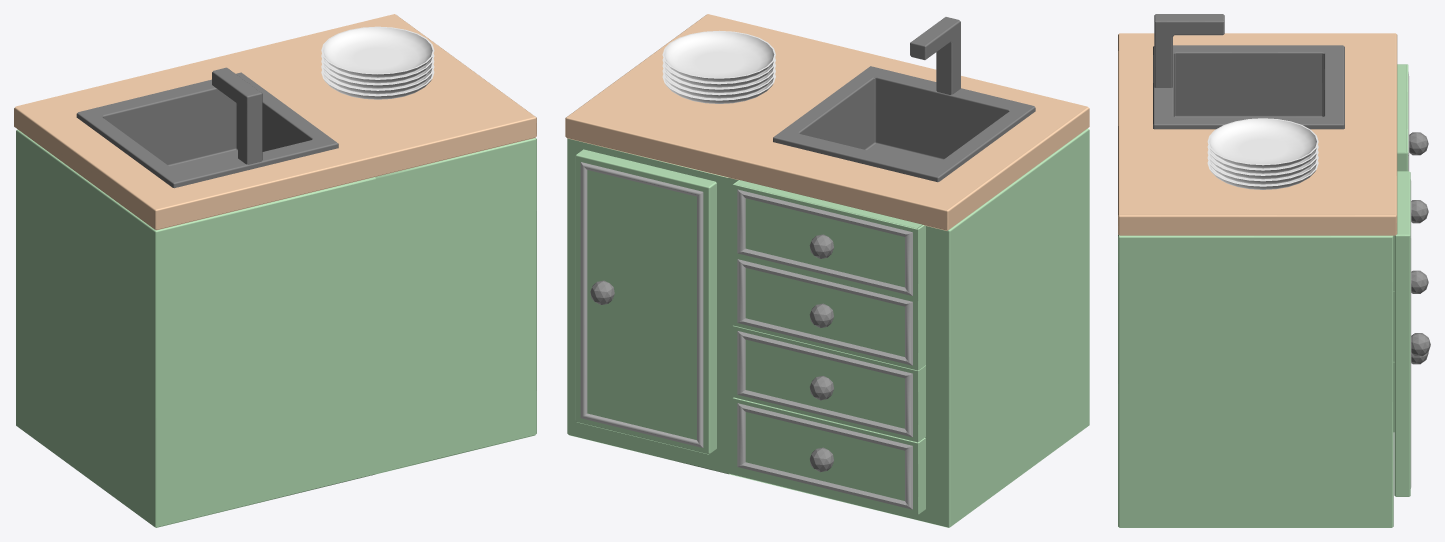
Rendered from dishSink.glb.
The picture shows the model from 3 angles, left to right: view 1: azimuth 30°, elevation 25°; view 2: azimuth 150°, elevation 25°; view 3: azimuth 270°, elevation 25°; orthographic projection. The views are drawn at different scales.
Parts seen in each view (by area): view 1: Kitchen_set_03, Kitchen_sink, Dishes; view 2: Kitchen_set_03, Kitchen_sink, Dishes; view 3: Kitchen_set_03, Kitchen_sink, Dishes.
Boxes of the visible parts, x1,y1,x2,y2 form: Kitchen_set_03: (14, 14, 536, 527); Kitchen_sink: (76, 67, 338, 188); Dishes: (321, 26, 434, 99); Kitchen_set_03: (565, 14, 1089, 527); Kitchen_sink: (773, 17, 1035, 182); Dishes: (662, 30, 775, 103); Kitchen_set_03: (1118, 33, 1430, 527); Kitchen_sink: (1153, 14, 1344, 129); Dishes: (1207, 118, 1318, 189).
Bounding box in the file's own units: 2.48 × 2.43 × 1.79.
